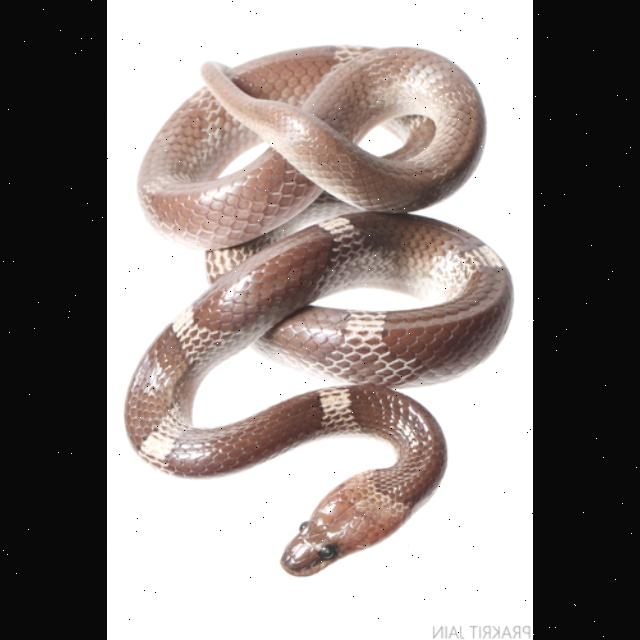snake: (123, 31, 514, 577)
